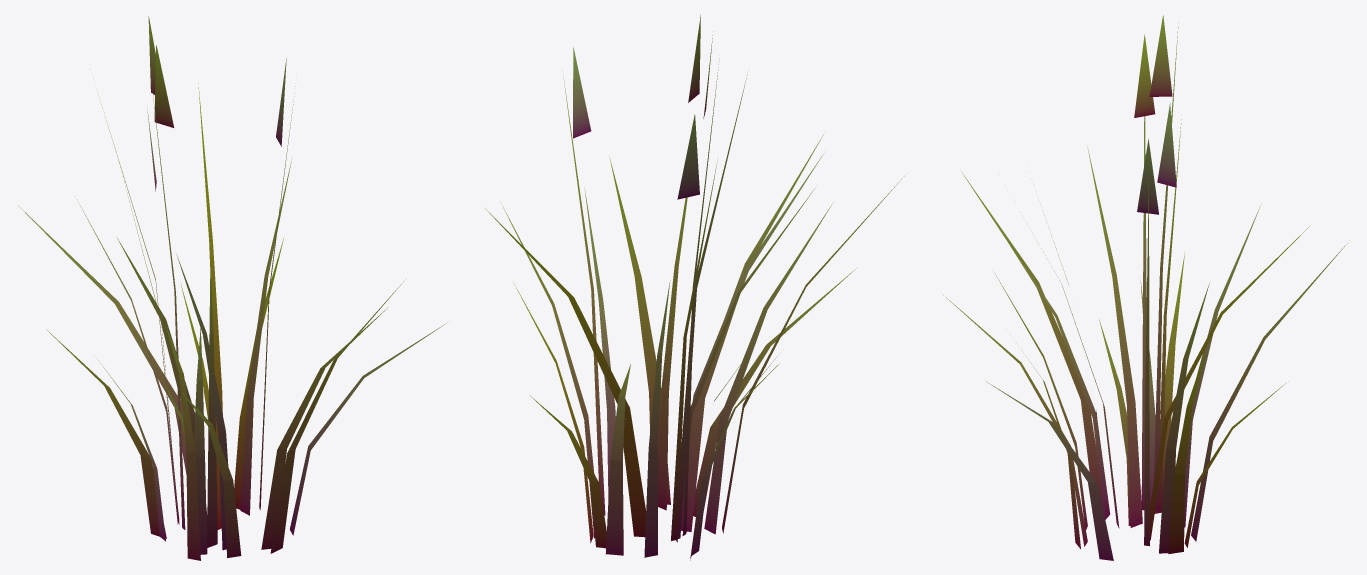
The model's file is veg_grass_b.glb.
3 renders of one model, left to right at view 1: azimuth 30°, elevation 25°; view 2: azimuth 150°, elevation 25°; view 3: azimuth 270°, elevation 25°, orthographic. The views are drawn at different scales.
Visible parts, largest first — view 1: veg_grass_b_LOD0; view 2: veg_grass_b_LOD0; view 3: veg_grass_b_LOD0.
Boxes of the visible parts, x1,y1,x2,y2 form: veg_grass_b_LOD0: (18,16,447,560); veg_grass_b_LOD0: (485,15,904,560); veg_grass_b_LOD0: (943,15,1348,560).
Size of what is drawn, in the model's own units: 0.313 by 0.5176 by 0.3928.
